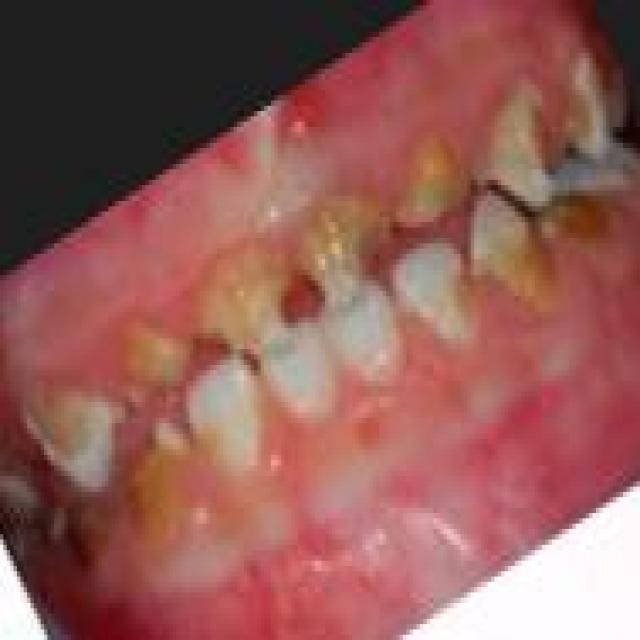caries: (196, 235, 294, 356), (299, 178, 384, 316), (490, 210, 570, 320), (388, 130, 468, 238), (114, 316, 202, 403), (560, 65, 614, 164), (507, 83, 563, 173)
